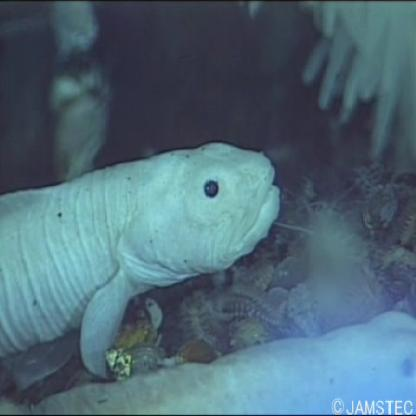Bio: (1, 133, 286, 381)
